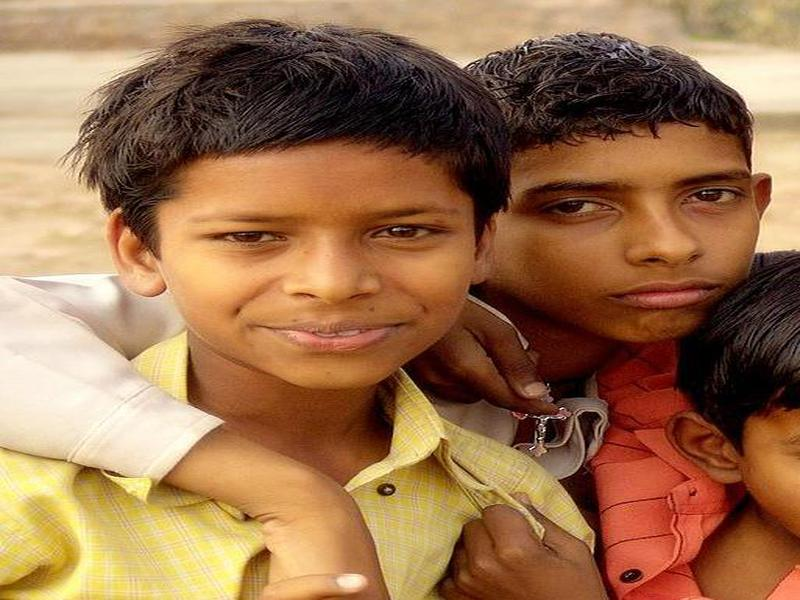person: (4, 20, 601, 600), (467, 39, 800, 421), (691, 265, 799, 600)
